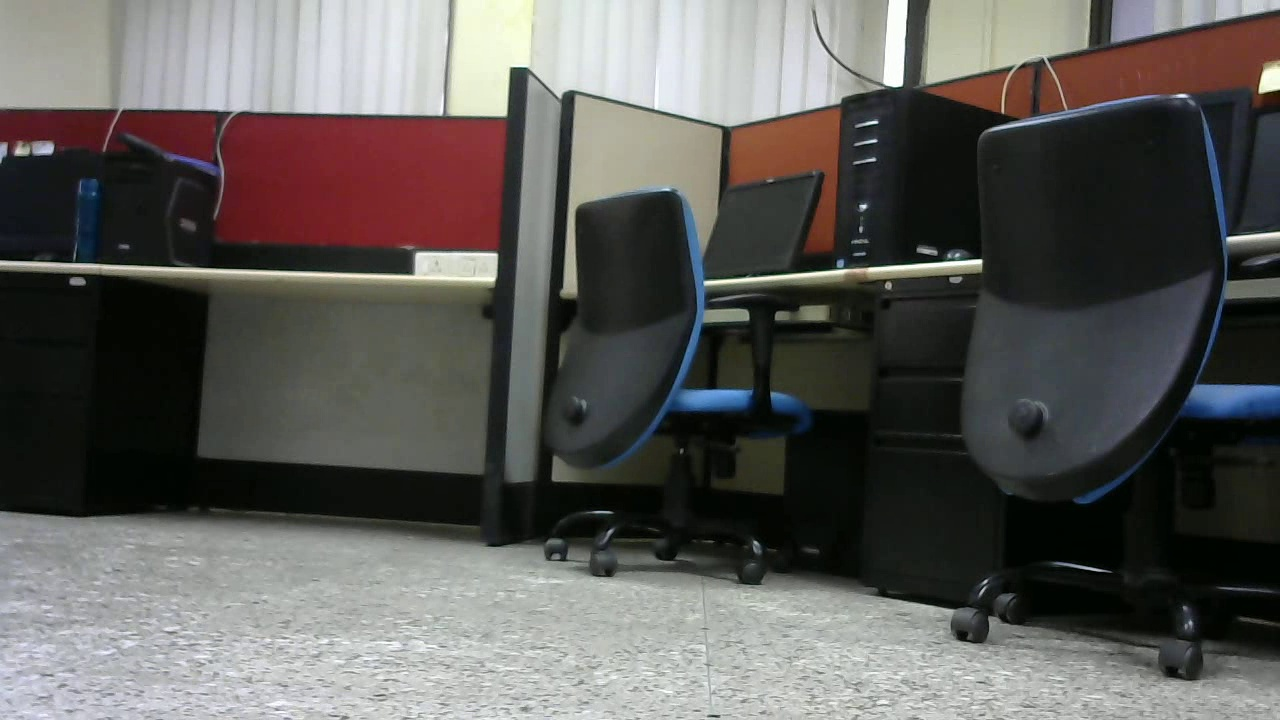chair: (949, 92, 1280, 685), (543, 188, 813, 587)
